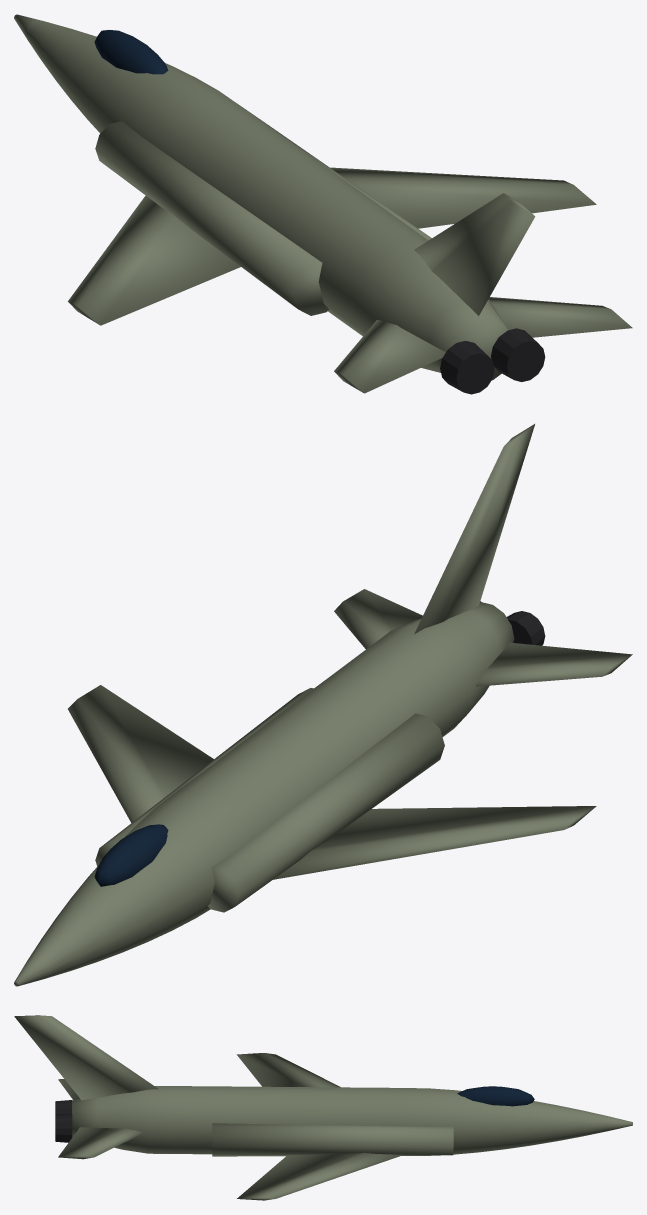
3 renders of one model, top to bottom at view 1: azimuth 30°, elevation 25°; view 2: azimuth 150°, elevation 25°; view 3: azimuth 270°, elevation 25°, orthographic. The views are drawn at different scales.
Parts seen in each view (by area): view 1: Body, Detail, Canopy; view 2: Body, Canopy, Detail; view 3: Body, Canopy, Detail.
Boxes of the visible parts, left/top/right/bottom form: Body: left=14, top=14, right=632, bottom=393; Detail: left=440, top=328, right=545, bottom=394; Canopy: left=94, top=30, right=168, bottom=74; Body: left=14, top=424, right=632, bottom=986; Canopy: left=94, top=824, right=168, bottom=886; Detail: left=480, top=601, right=545, bottom=645; Body: left=14, top=1015, right=632, bottom=1200; Canopy: left=457, top=1086, right=534, bottom=1106; Detail: left=55, top=1100, right=72, bottom=1142.
Size of the model in its own units: 11.7 by 5.16 by 21.19.
